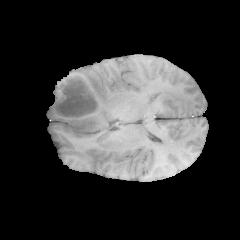glioma: (48, 71, 114, 134)
